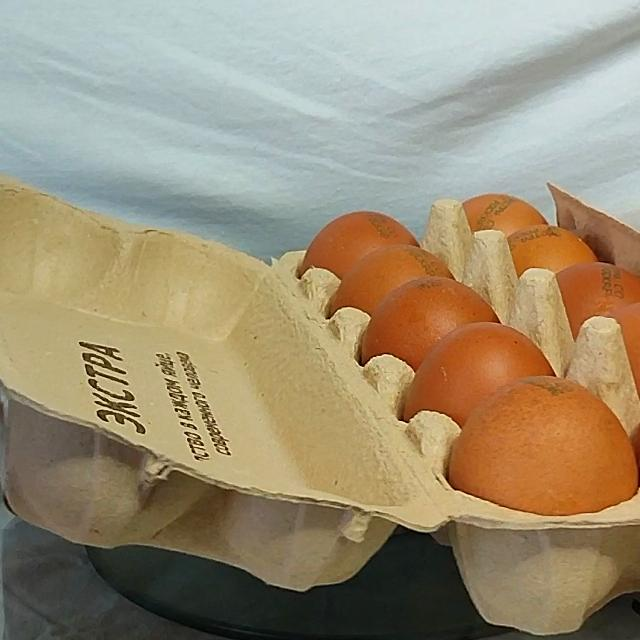egg: (0, 147, 640, 635)
